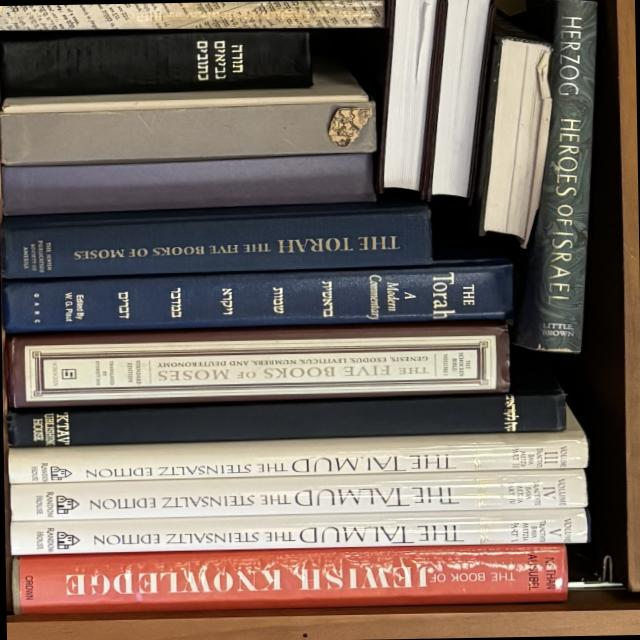book: (4, 361, 566, 448), (5, 408, 587, 485), (6, 320, 509, 407), (11, 542, 567, 615), (1, 259, 512, 333), (0, 199, 431, 281), (8, 468, 586, 520), (9, 507, 588, 554), (0, 29, 310, 96), (0, 0, 382, 33)
